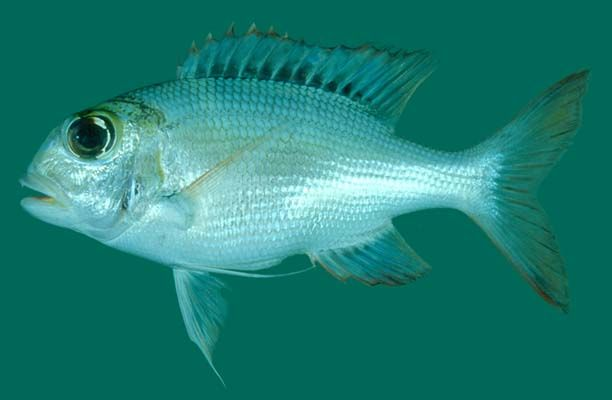fish: (18, 18, 592, 390)
